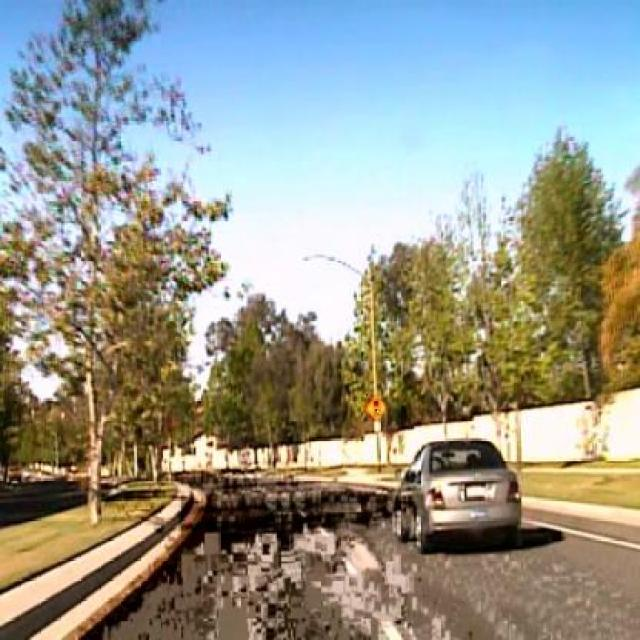signalAhead: (364, 394, 388, 421)
